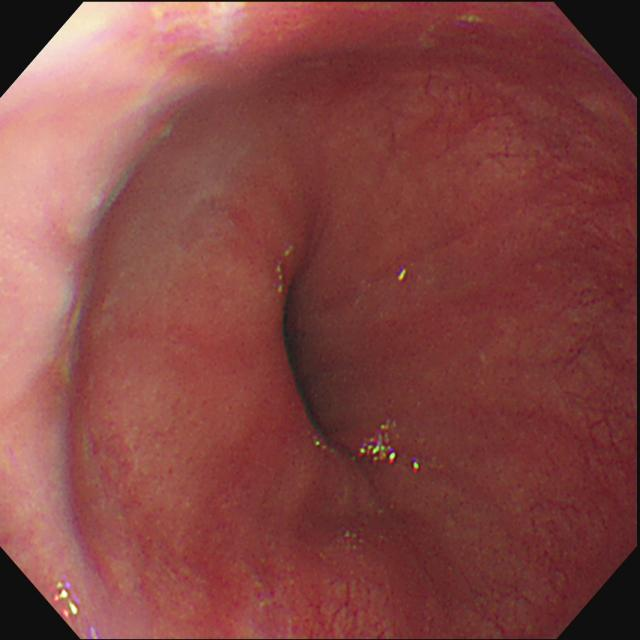U: (50, 580, 82, 624), (361, 429, 398, 464)
